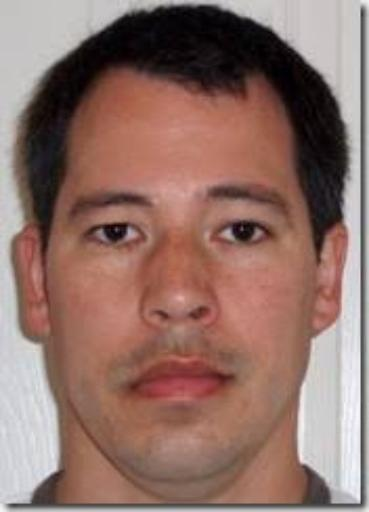left_eye: (210, 218, 275, 251)
left_lip_corner: (220, 365, 247, 389)
right_eye: (79, 219, 149, 251)
right_lip_corner: (117, 376, 144, 398)
